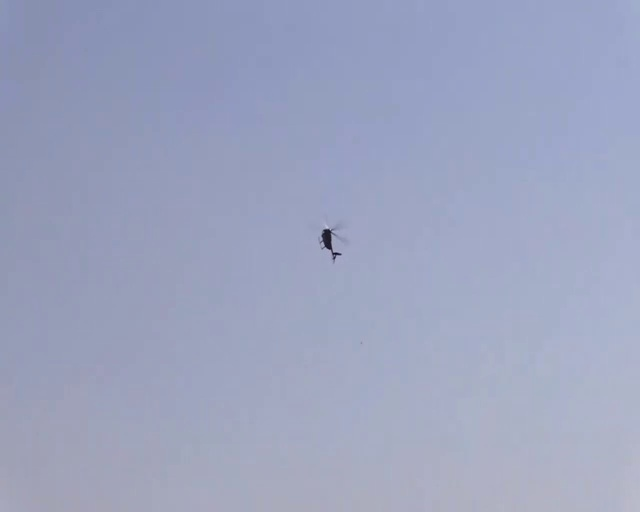HELICOPTER: (318, 220, 349, 262)
